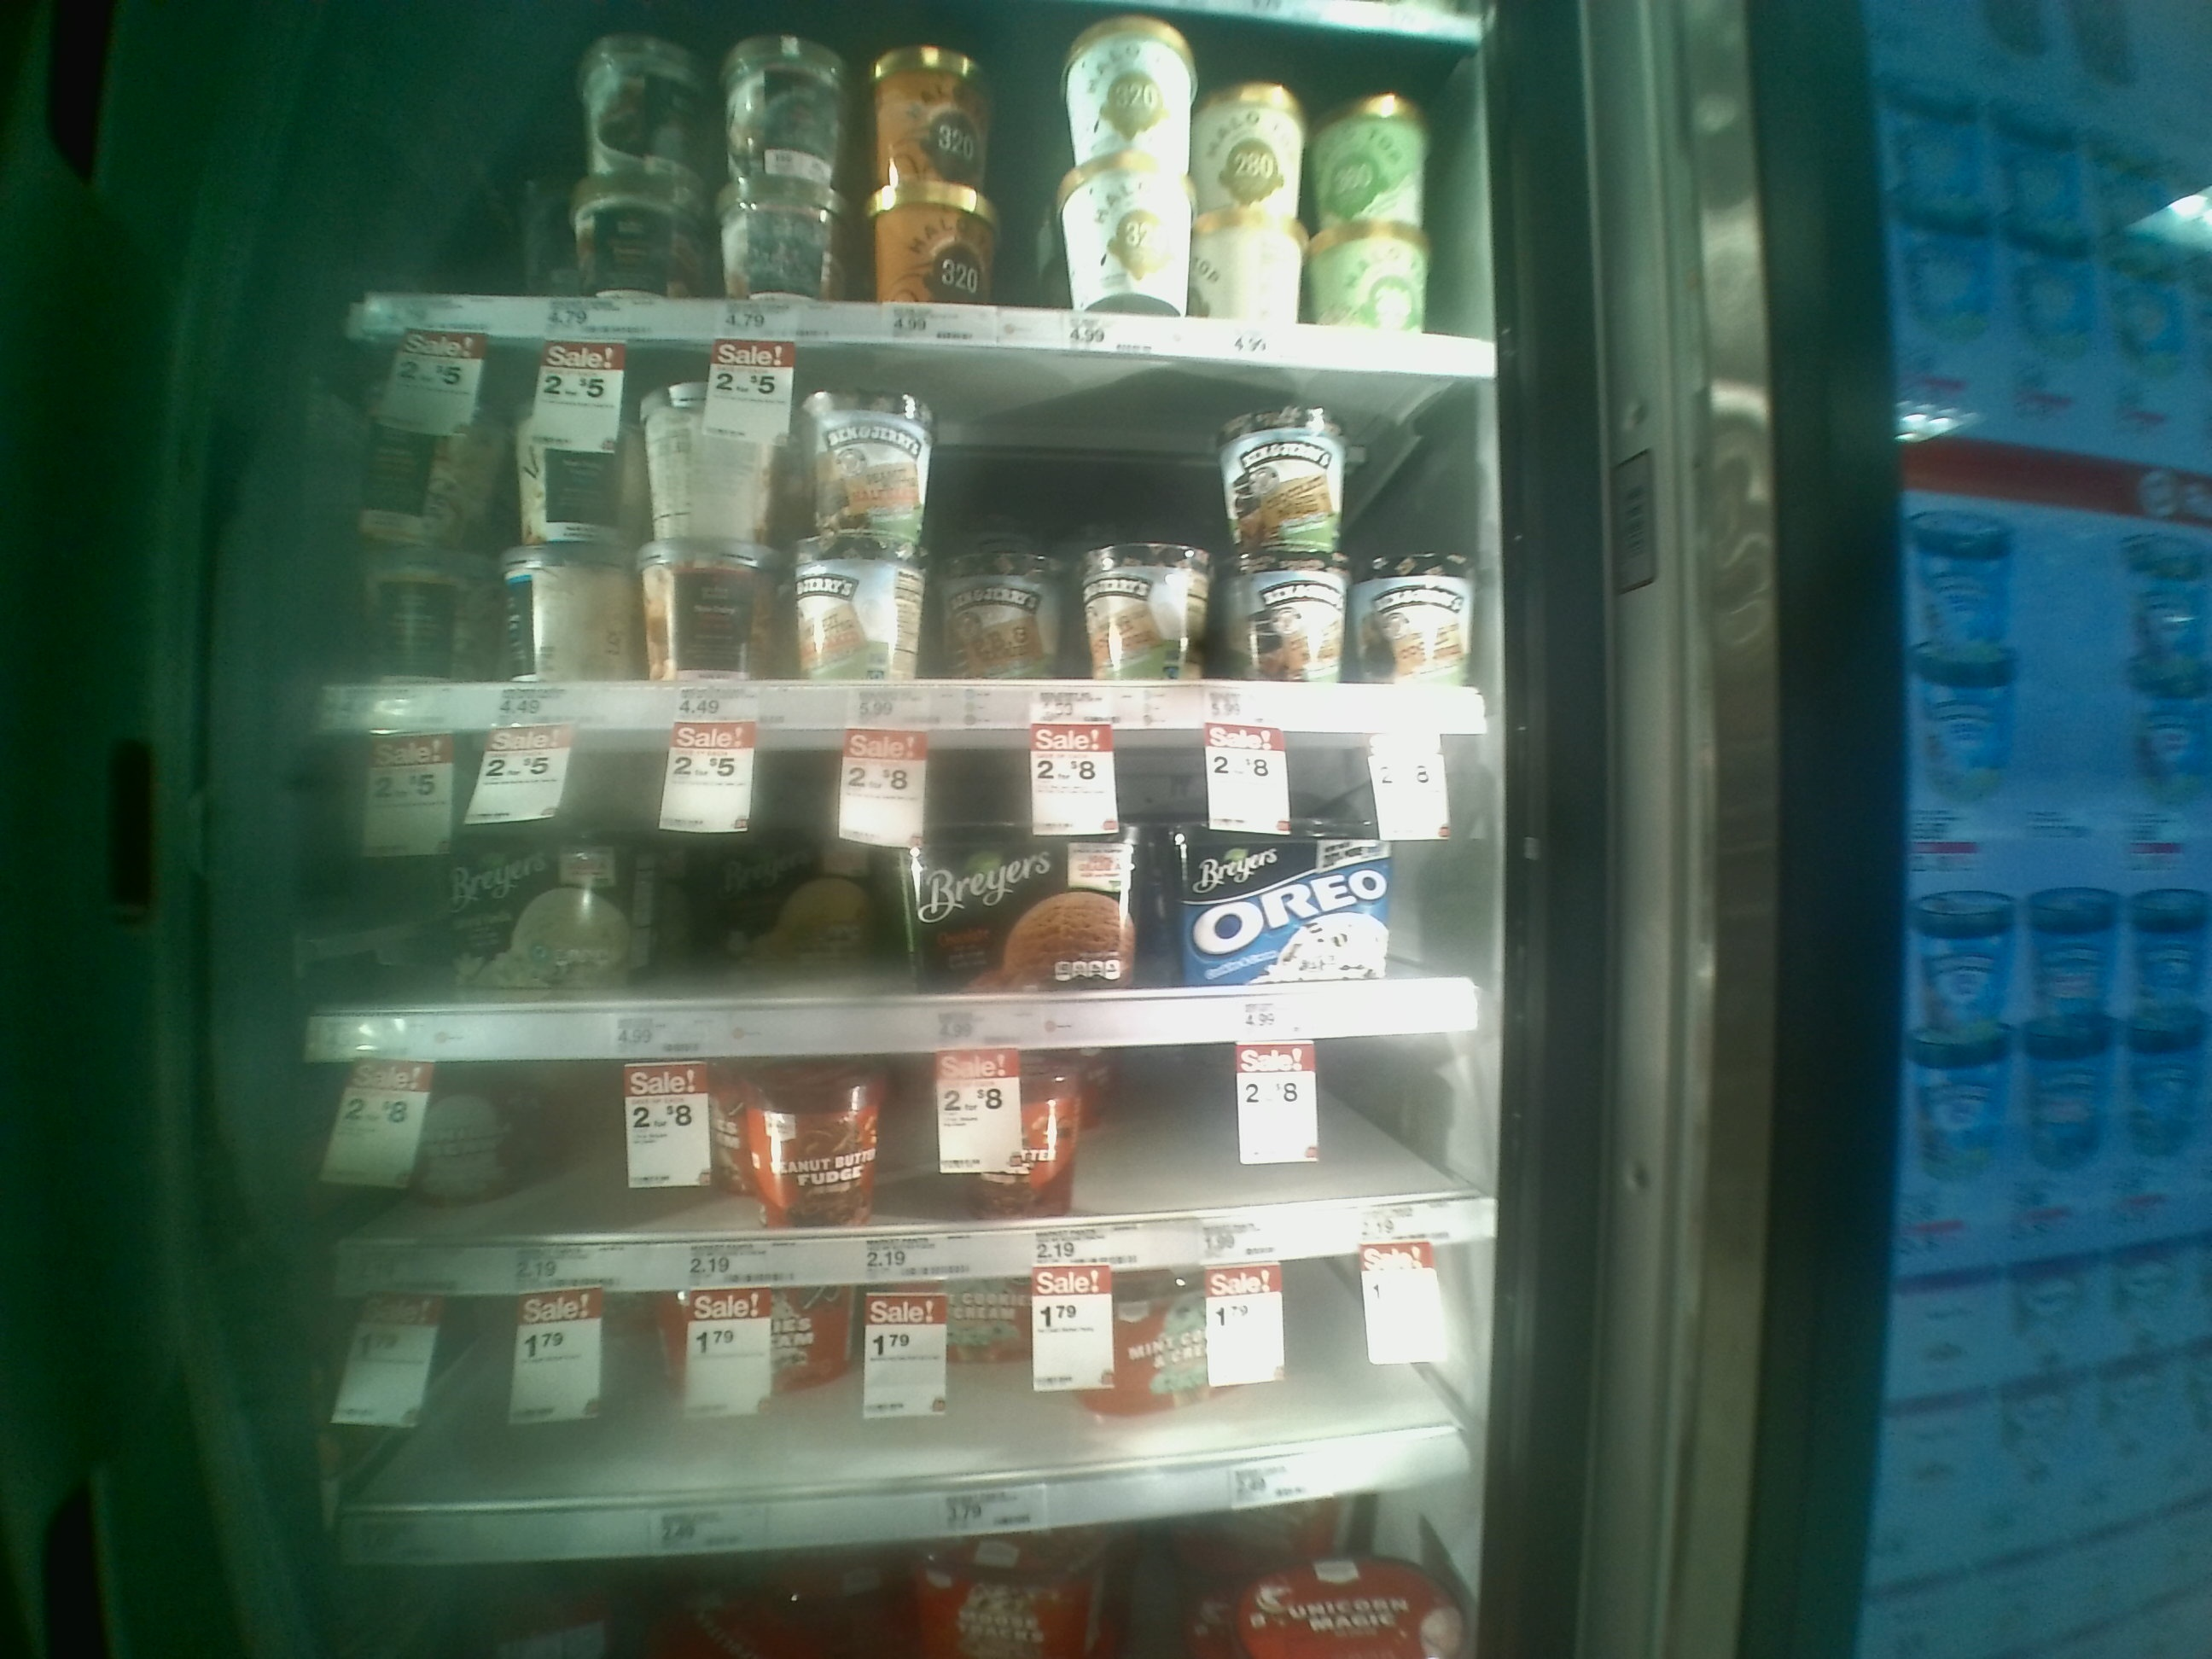ice-cream-shelf: (347, 342, 1489, 734), (308, 727, 1498, 1053), (334, 1051, 1482, 1298), (357, 1305, 1451, 1563)
